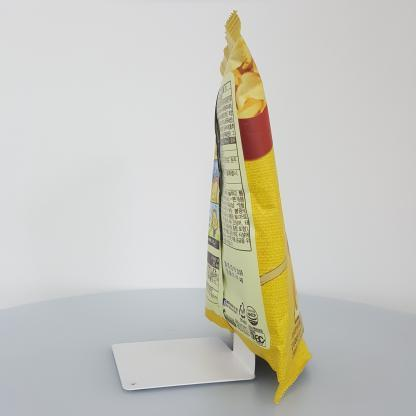Plastic Packaging: (191, 9, 321, 406)
